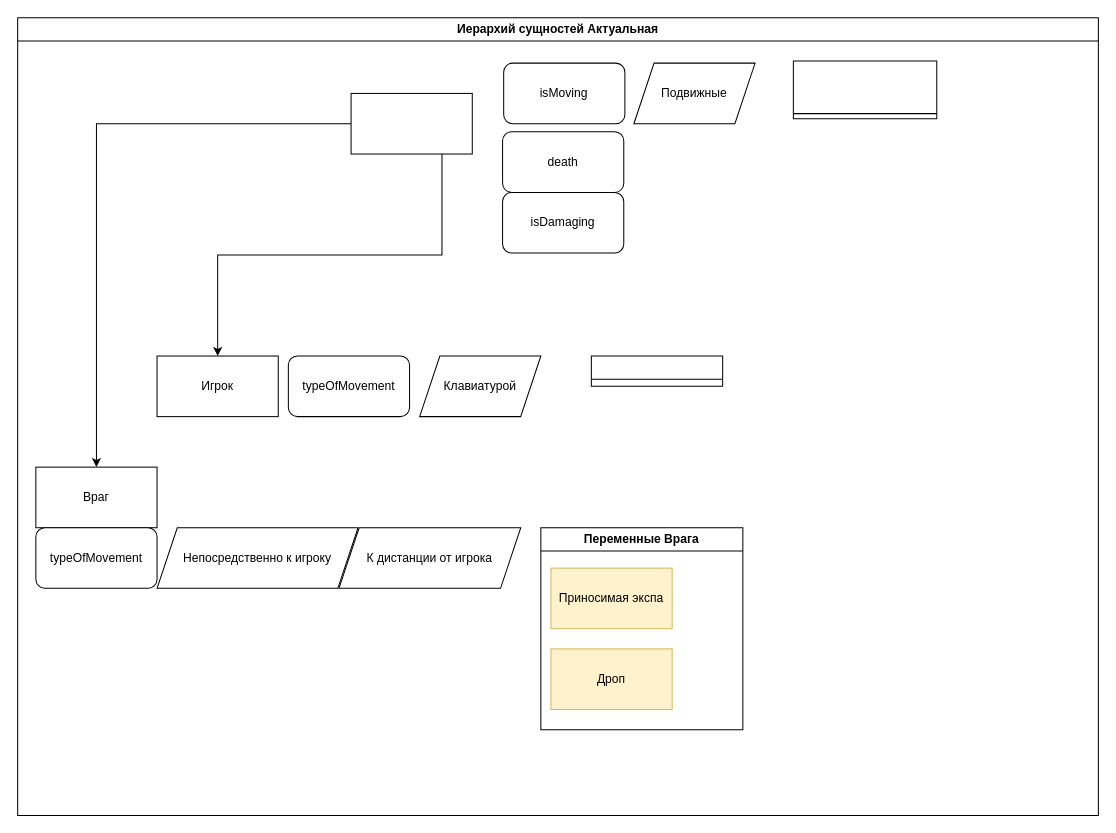
Image size: 1116x833. Some labels were removed from this diagram. The shapes that lost their labels are listed below. From the top down, each one's centre as x and y in pixels, then its label:
At point 864,89: "Переменные Персонажей".
At point 411,123: "Персонажи".
At point 656,370: "Переменные ГГ".
